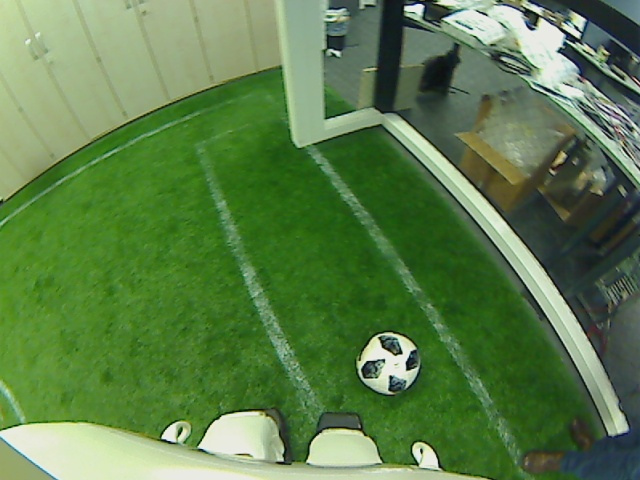ball: (356, 326, 422, 396)
